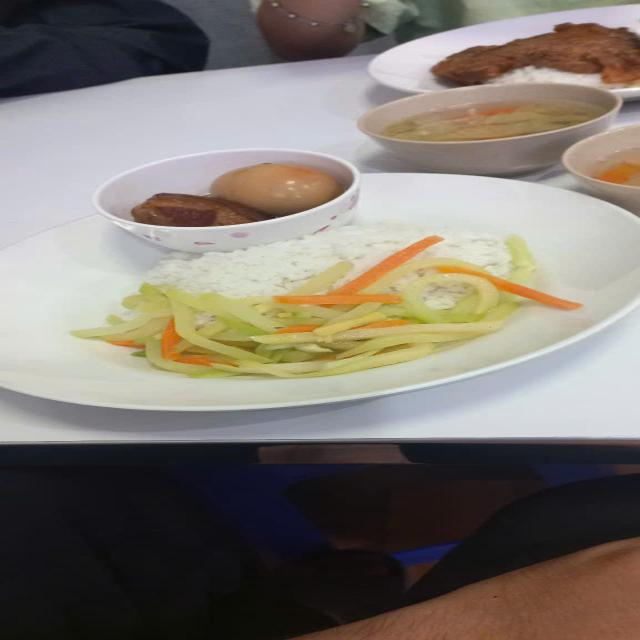canh bau: (382, 102, 598, 142)
com: (145, 222, 510, 298), (425, 284, 459, 310)
kho trung: (132, 164, 343, 226)
suon mieng: (430, 23, 639, 88)
